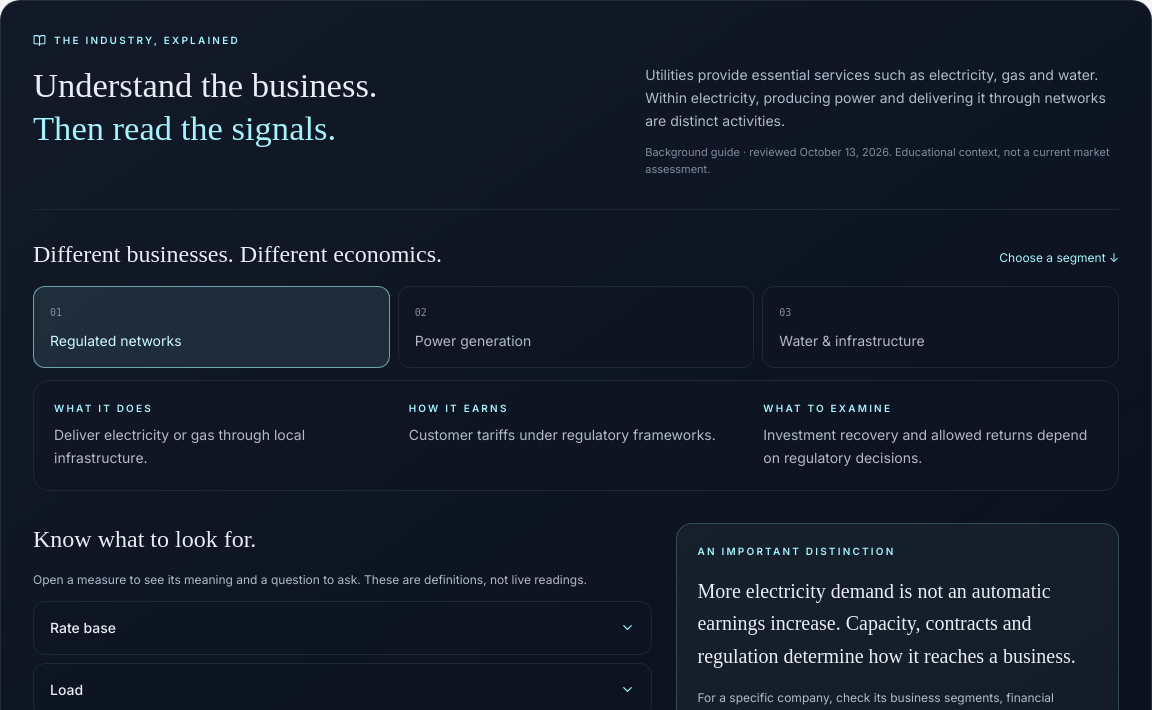
Scenario: provides a usable distinct guide for utilities even without reporting
The width and height of the screenshot is (1152, 710).
Click the button "02 Power generation" at [473, 341], box [398,286,754,368]
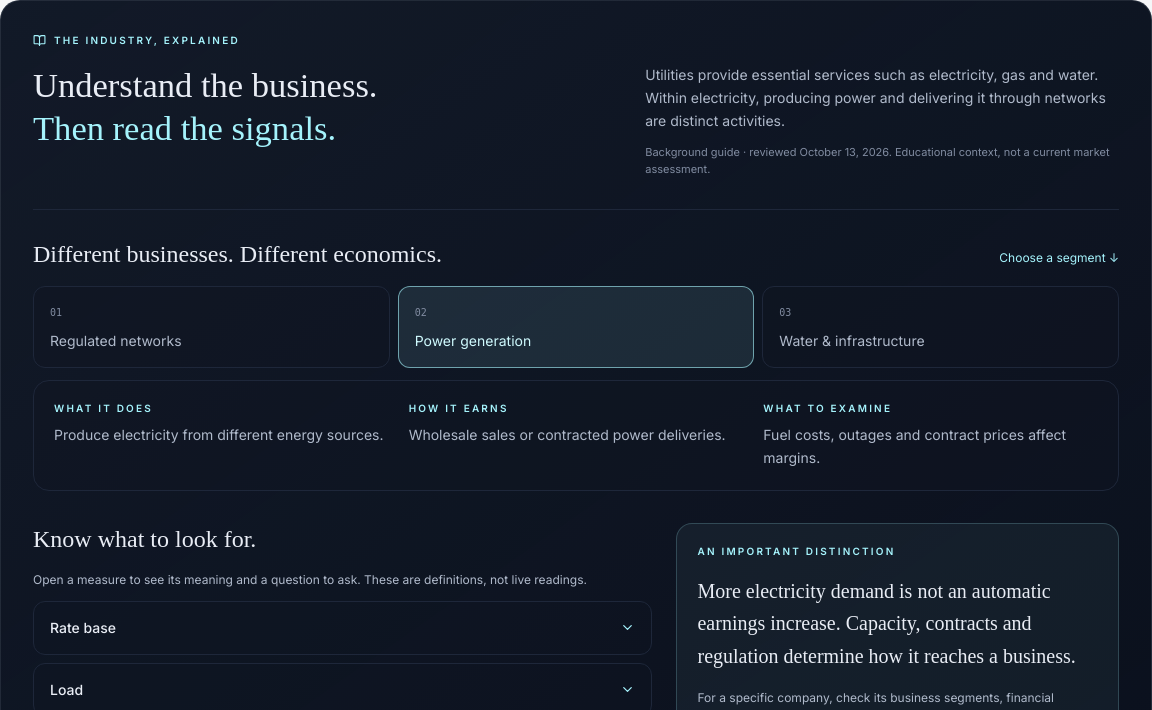
Expected: the text "definitions, not live readings" is shown, [33,572,587,587]
Now the text "Wholesale sales or contracted power deliveries." is shown, box [409,424,743,447]
Now the text "Customer tariffs under regulatory frameworks." is gone
